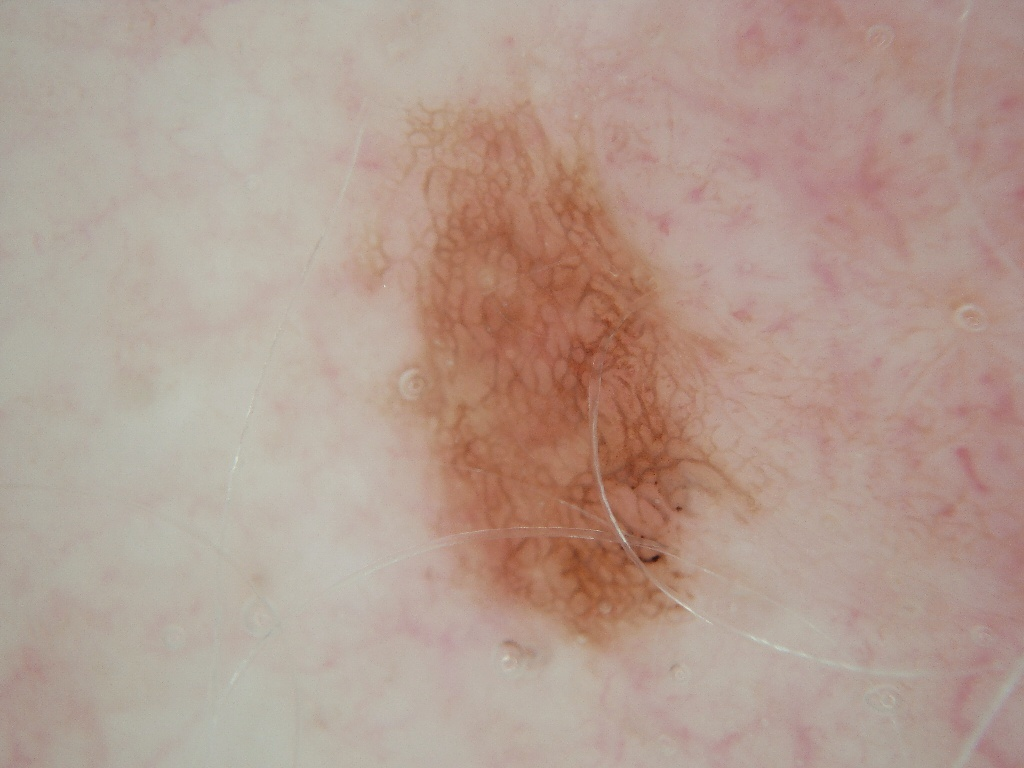Detected Lesion: (365, 81, 750, 663)
